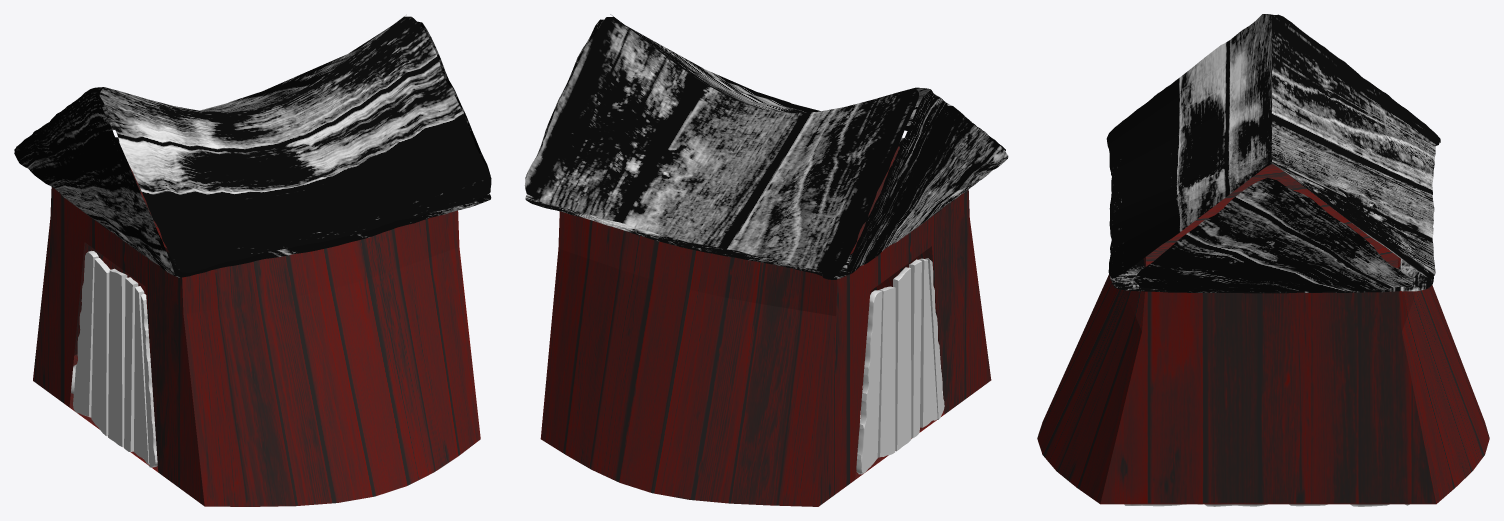
Rendered from toolshed.fbx.
3 views of the same model, side by side, from view 1: azimuth 30°, elevation 25°; view 2: azimuth 150°, elevation 25°; view 3: azimuth 270°, elevation 25° (orthographic). The views are drawn at different scales.
Parts seen in each view (by area): view 1: body, roof, door; view 2: body, roof, door; view 3: body, roof.
Part boxes in pixels (x1=…): body: x1=33, y1=164, x2=480, y2=506; roof: x1=14, y1=16, x2=491, y2=277; door: x1=73, y1=250, x2=157, y2=467; body: x1=540, y1=146, x2=991, y2=506; roof: x1=524, y1=14, x2=1008, y2=279; door: x1=856, y1=258, x2=944, y2=474; body: x1=1037, y1=164, x2=1489, y2=504; roof: x1=1106, y1=14, x2=1440, y2=293.
Size of the model in its own units: 1069 by 1160 by 1312.
